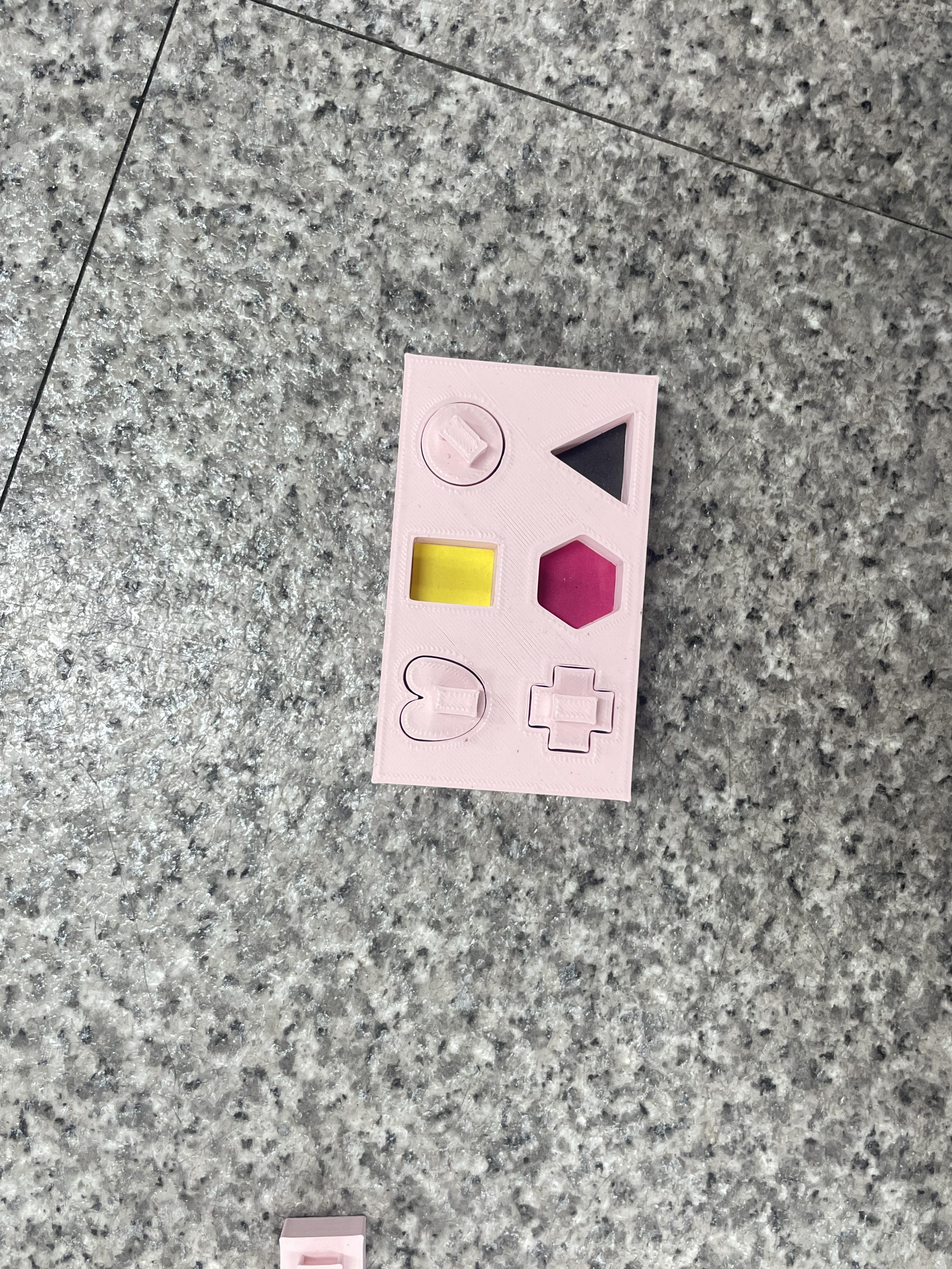unsolved: (359, 337, 664, 825)
